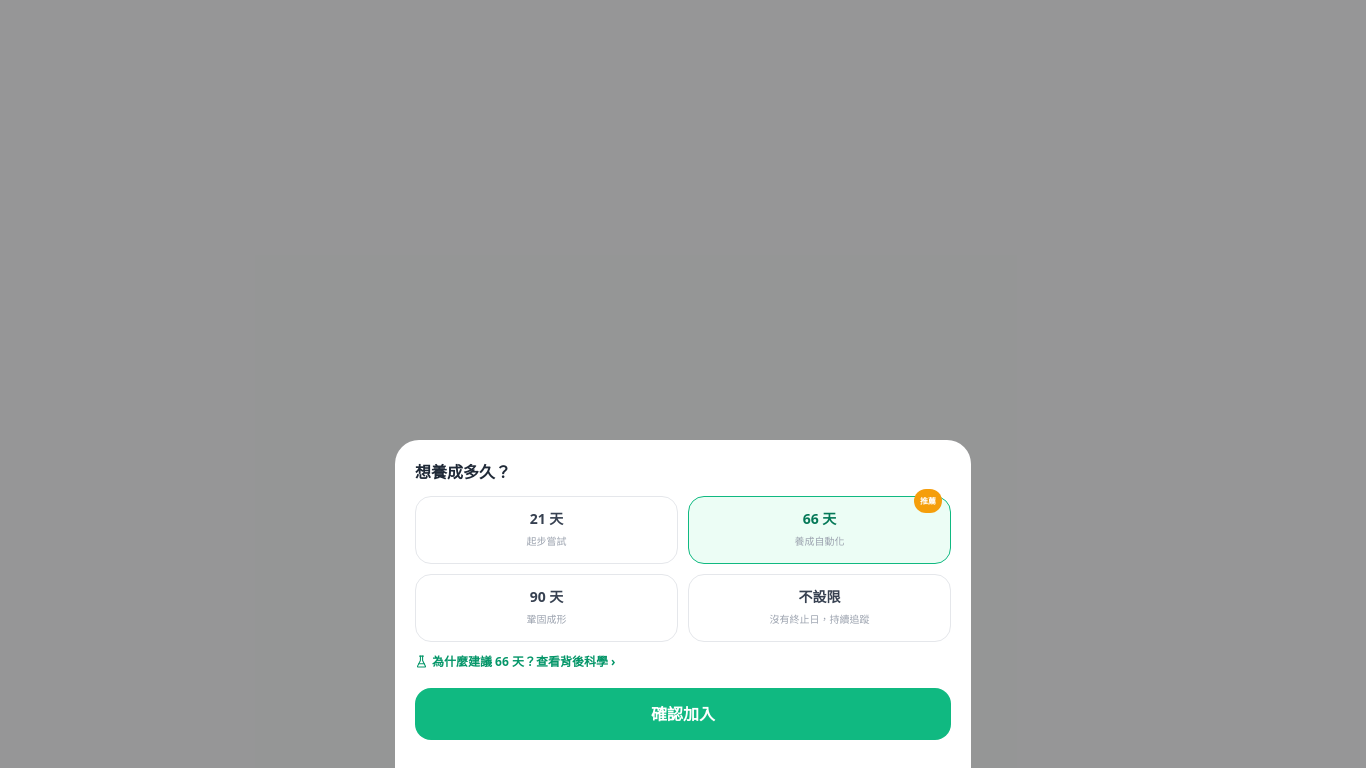
DurationSheet › 背後科學預設收合，點連結才展開
Check: the text "平均約需" is not shown
Click the button "為什麼建議 66 天？查看背後科學 ›" at (515, 662), box x1=415 y1=654 x2=616 y2=670
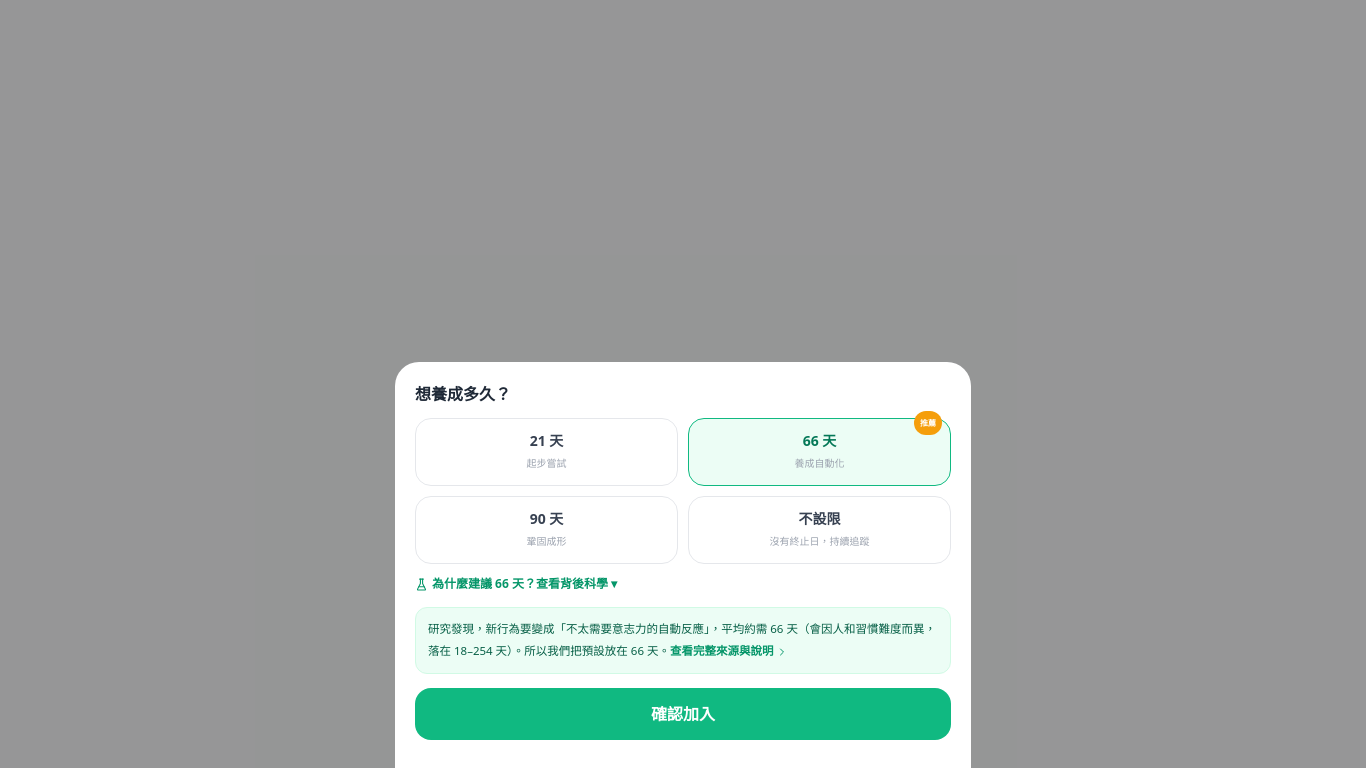
Check: the text "平均約需" is shown, box x1=428 y1=621 x2=936 y2=658
